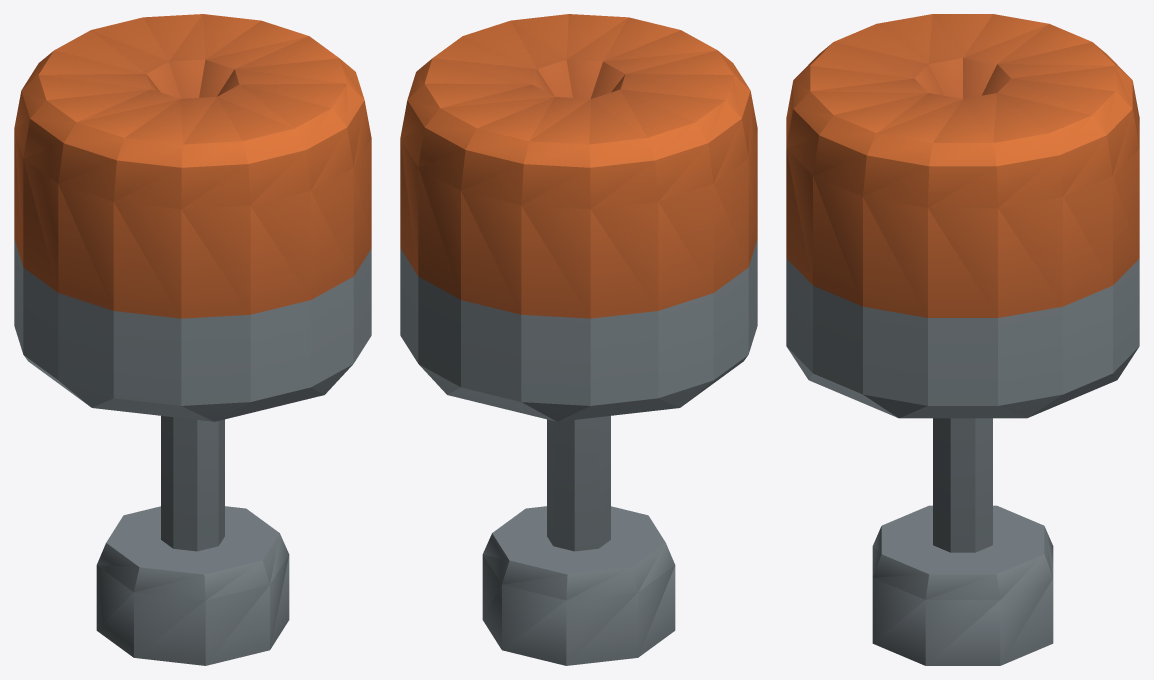
The model's file is cafe_stool.fbx.
The picture shows the model from 3 angles, left to right: view 1: azimuth 30°, elevation 25°; view 2: azimuth 150°, elevation 25°; view 3: azimuth 270°, elevation 25°; orthographic projection.
Visible parts, largest first — view 1: cafe_stool_LOD0; view 2: cafe_stool_LOD0; view 3: cafe_stool_LOD0.
Boxes of the visible parts, x1,y1,x2,y2 form: cafe_stool_LOD0: (14, 14, 371, 665); cafe_stool_LOD0: (400, 14, 757, 665); cafe_stool_LOD0: (786, 14, 1139, 665).
Size of what is drawn, in the model's own units: 0.42 by 0.72 by 0.42.
Materials: 1 (1 with a texture image).
